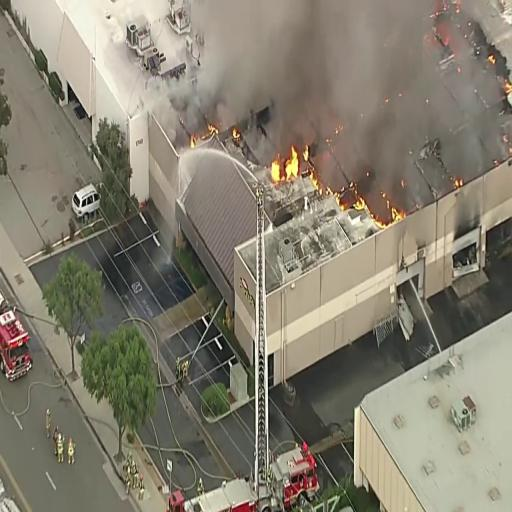smoke: (258, 0, 395, 102)
